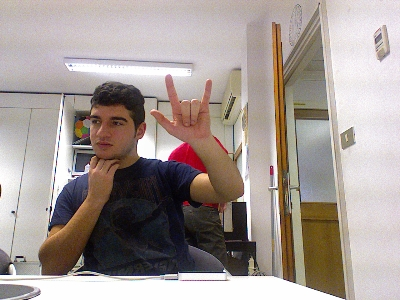我爱你: (149, 73, 213, 140)
